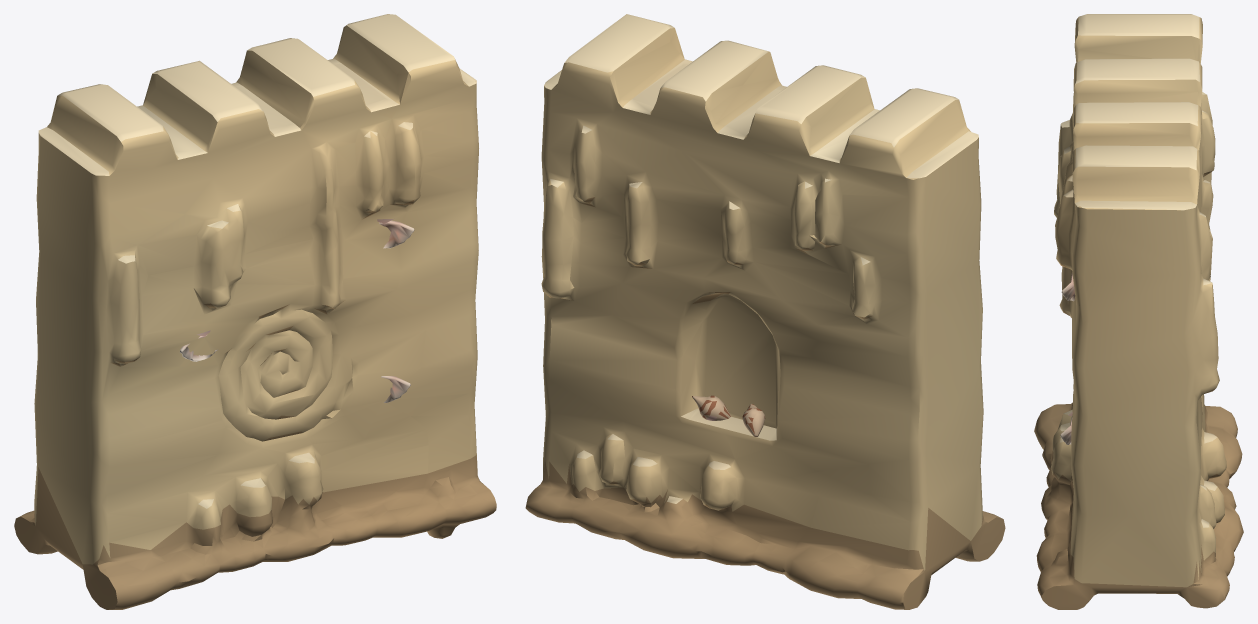
The model's file is shore_castle_wall_c.glb.
The picture shows the model from 3 angles, left to right: view 1: azimuth 30°, elevation 25°; view 2: azimuth 150°, elevation 25°; view 3: azimuth 270°, elevation 25°; orthographic projection. The views are drawn at different scales.
Visible parts, largest first — view 1: shore_castle_wall_c; view 2: shore_castle_wall_c; view 3: shore_castle_wall_c.
Part boxes in pixels (x1=…): shore_castle_wall_c: x1=14, y1=14, x2=496, y2=609; shore_castle_wall_c: x1=525, y1=14, x2=1005, y2=609; shore_castle_wall_c: x1=1034, y1=14, x2=1243, y2=609.
Bounding box in the file's own units: 10.03 × 11.82 × 4.98.
